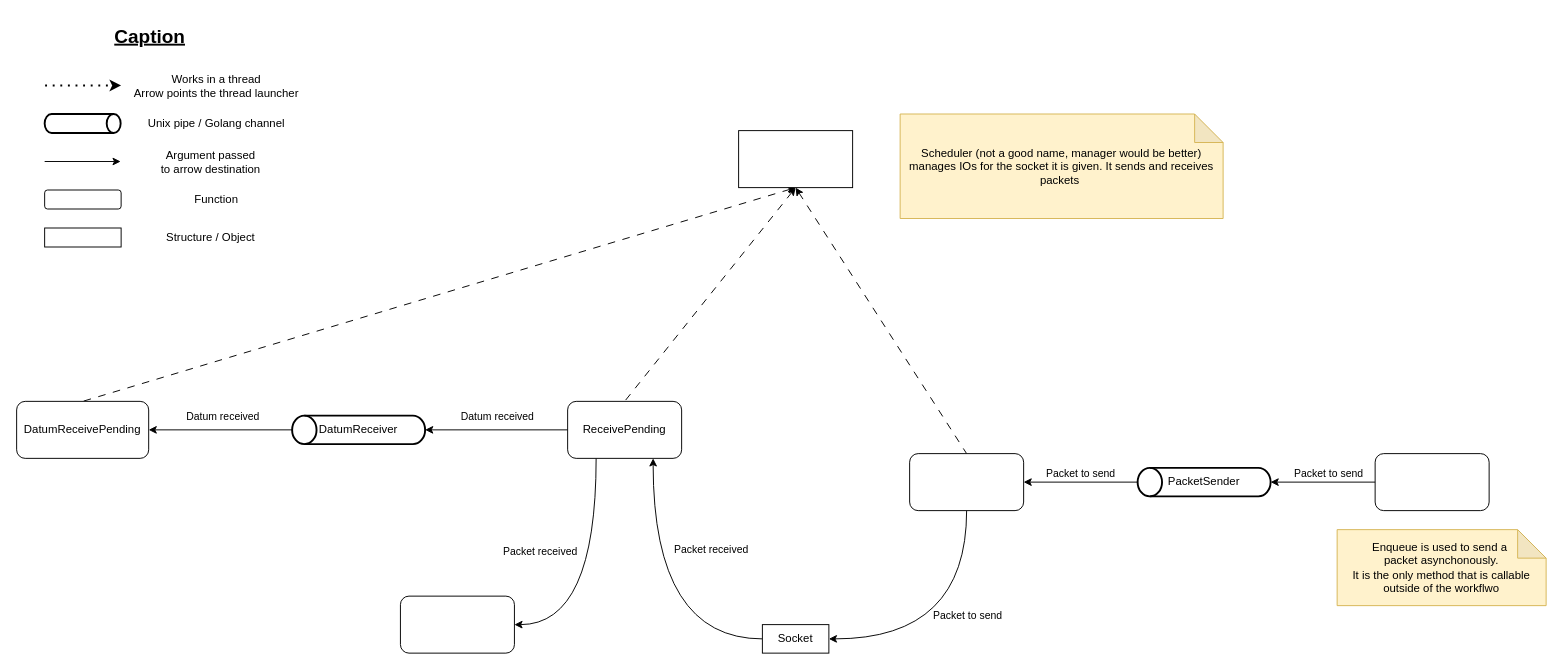
Some shapes in this 1563 by 670 pixel diagram are drawn without their labels. Each missing label, with the centre of its shape:
"Enqueue" belongs at [1431,482].
"HandleReceive" belongs at [456,624].
"Scheduler" belongs at [795,159].
"SendPending" belongs at [966,482].
